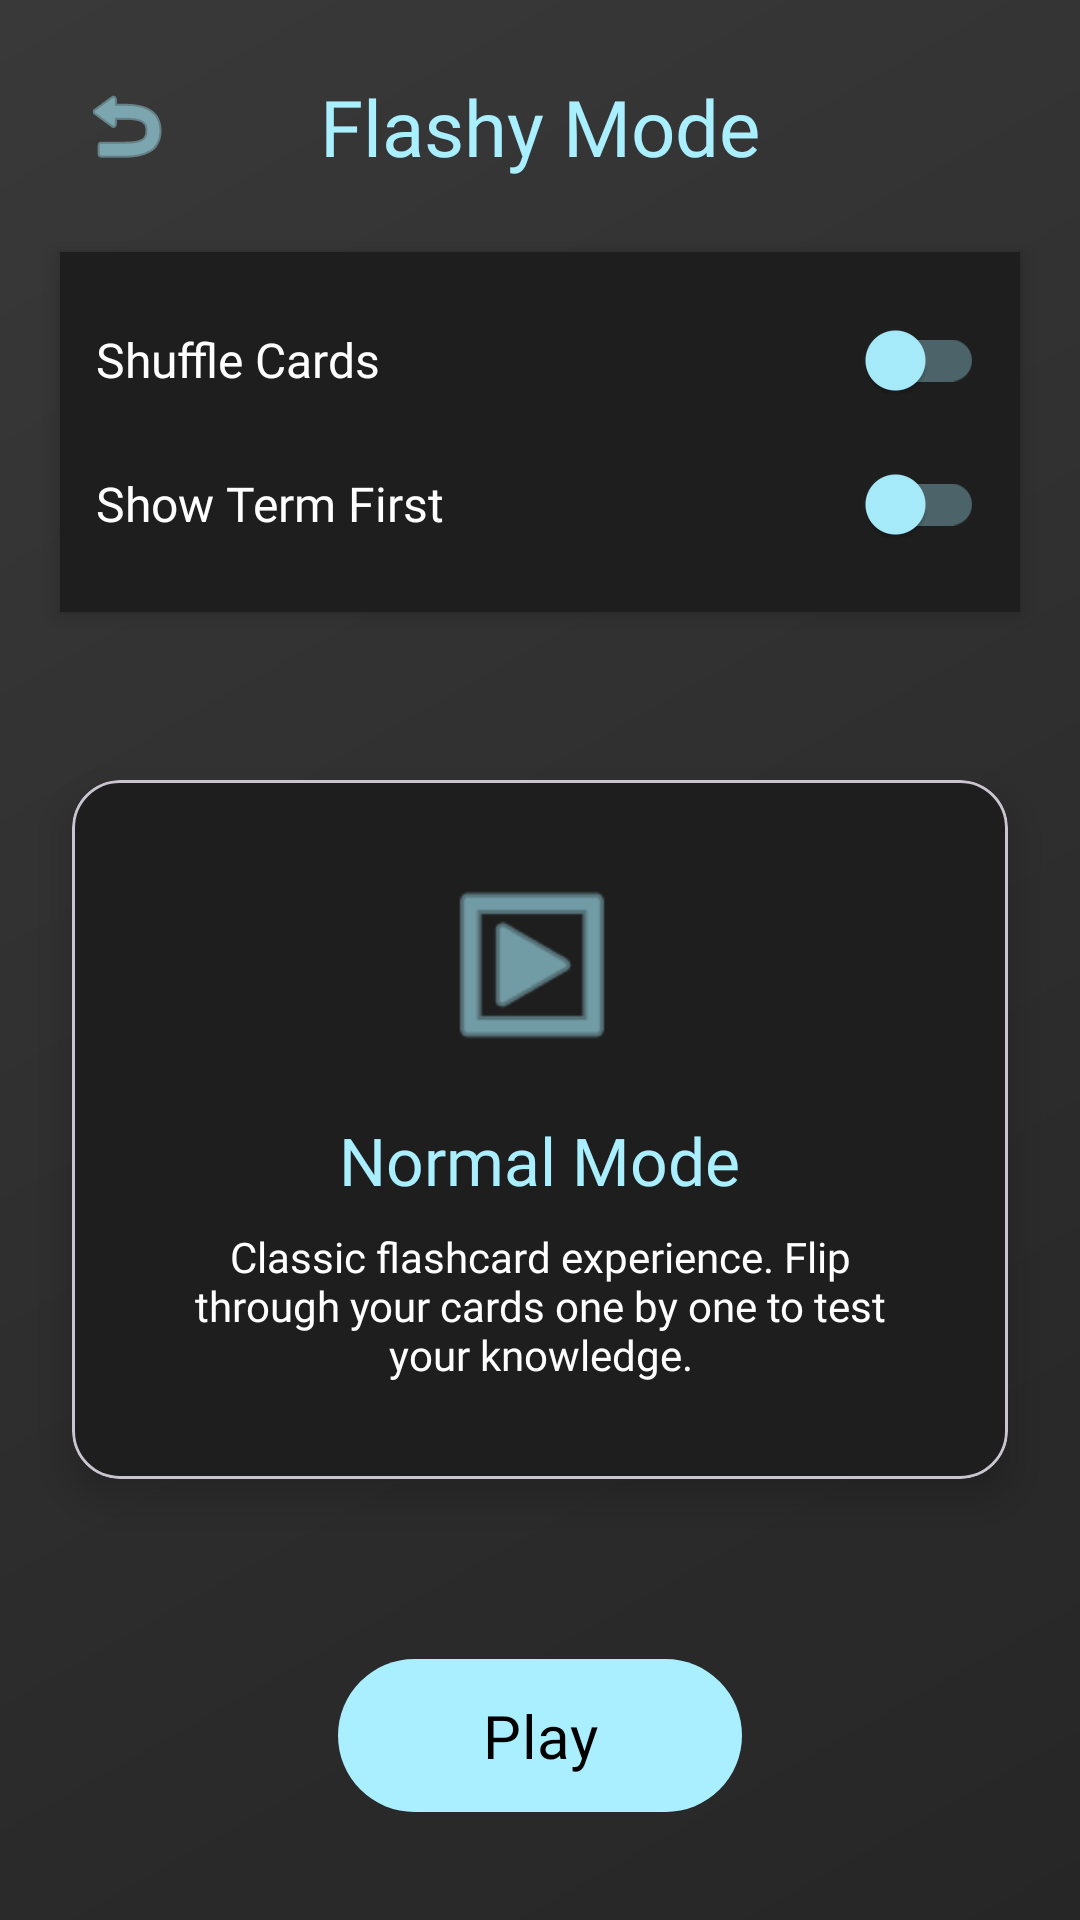

Named icons in this screenshot (1080px x 1920px) and their bounding boxes, (x1, y1, x2, y2):
Back: (93, 95, 162, 158)
slideshow: (460, 892, 604, 1038)
